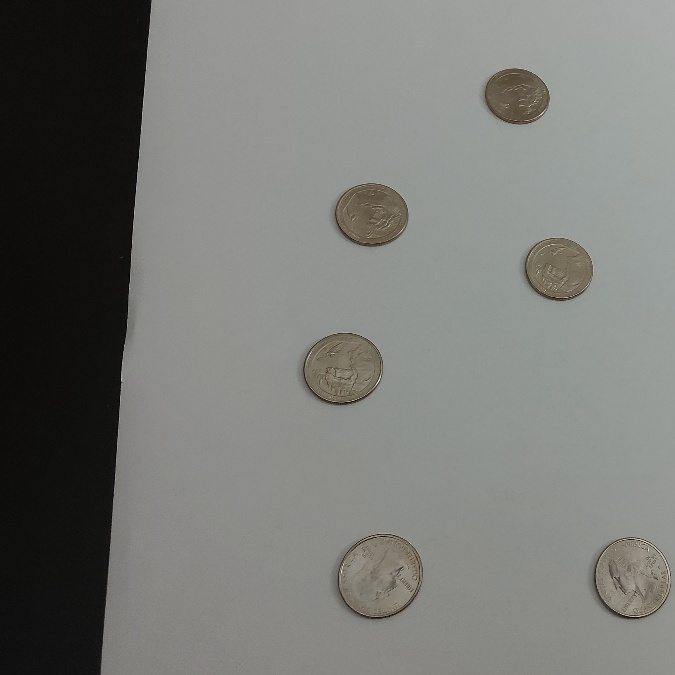coin_quarter: (332, 531, 423, 618), (300, 331, 384, 406), (517, 233, 597, 304), (332, 179, 411, 250), (479, 65, 553, 127)
